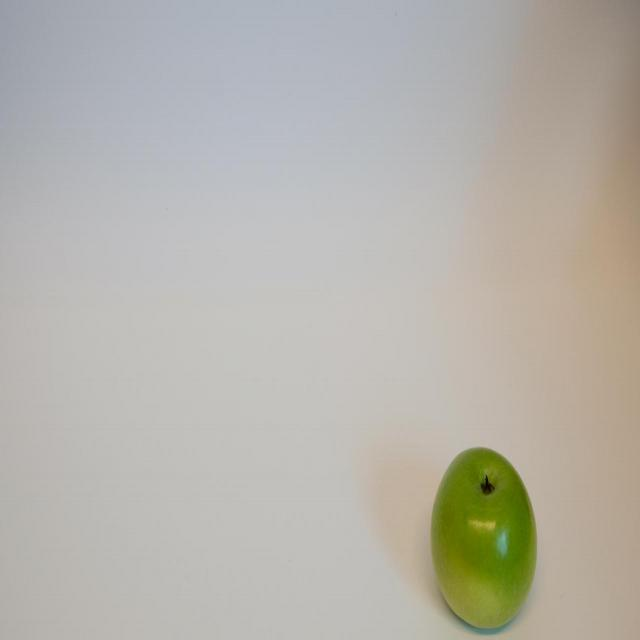apple: (430, 443, 538, 630)
